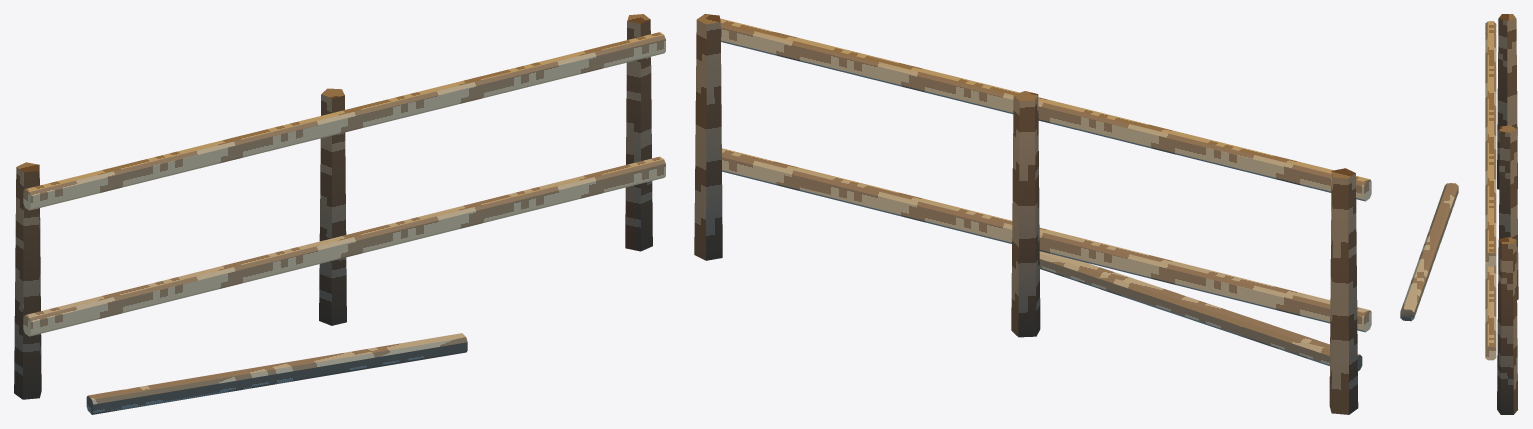
The model's file is wtown.fence__broken.glb.
The picture shows the model from 3 angles, left to right: view 1: azimuth 30°, elevation 25°; view 2: azimuth 150°, elevation 25°; view 3: azimuth 270°, elevation 25°; orthographic projection. The views are drawn at different scales.
Visible parts, largest first — view 1: kit_rails, kit_posts; view 2: kit_rails, kit_posts; view 3: kit_posts, kit_rails.
Part boxes in pixels (x1,y1,x2,y2): kit_rails: (23, 32, 665, 414); kit_posts: (14, 14, 652, 399); kit_rails: (720, 18, 1371, 370); kit_posts: (694, 14, 1358, 414); kit_posts: (1497, 14, 1518, 414); kit_rails: (1400, 21, 1496, 360).
Bounding box in the file's own units: 3.96 × 1.35 × 0.8494.
Materials: 2 (2 with a texture image).
